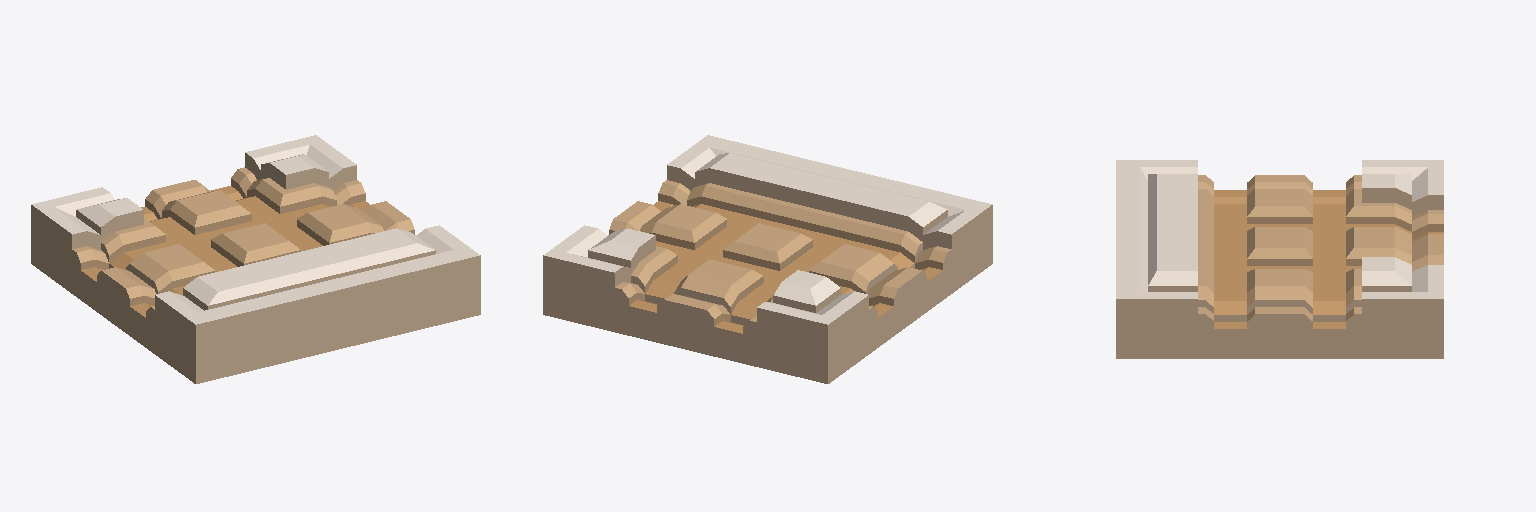
Rendered from Puzzle_Track_Button_TJoint.obj.
3 renders of one model, left to right at view 1: azimuth 30°, elevation 25°; view 2: azimuth 150°, elevation 25°; view 3: azimuth 270°, elevation 25°, orthographic.
Parts seen in each view (by area): view 1: object1, object2; view 2: object1, object2; view 3: object2, object1.
Part boxes in pixels (x1,y1,x2,y2): object1: (31,135,480,383); object2: (76,154,435,310); object1: (543,135,992,383); object2: (588,153,947,324); object2: (1148,174,1411,321); object1: (1116,160,1443,358).
Bounding box in the file's own units: 1 × 0.225 × 1.